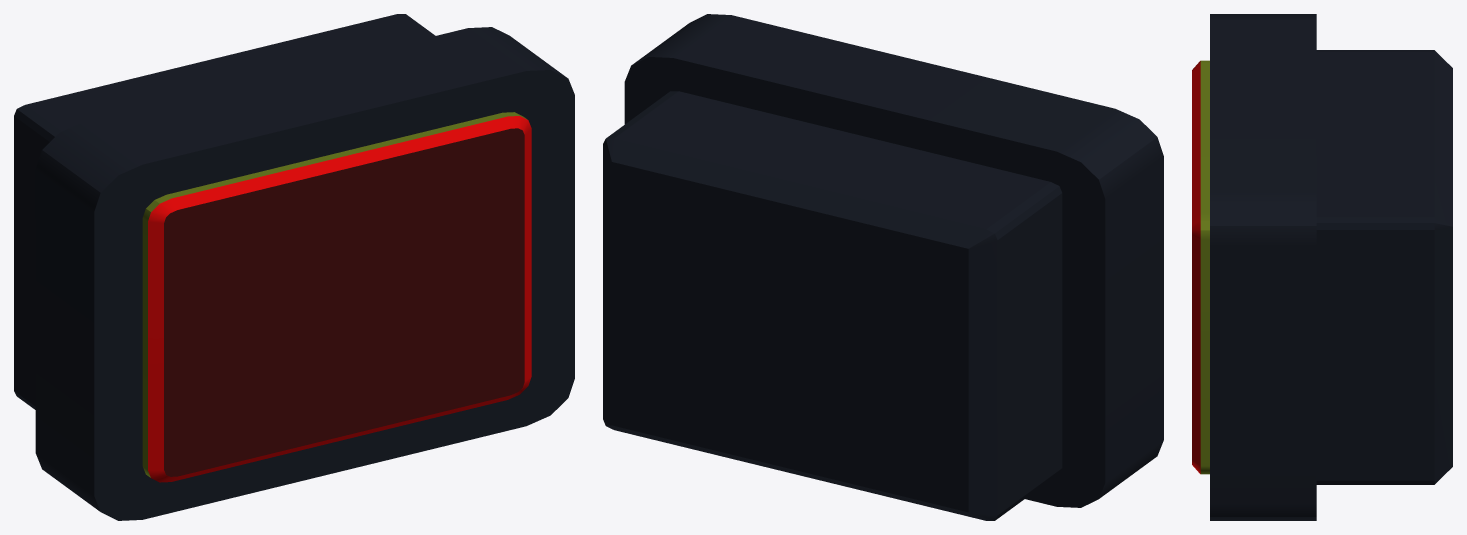
File: staticMesh_prop_TV.fbx
3 views of the same model, side by side, from view 1: azimuth 30°, elevation 25°; view 2: azimuth 150°, elevation 25°; view 3: azimuth 270°, elevation 25° (orthographic). The views are drawn at different scales.
Visible parts, largest first — view 1: pCube15; view 2: pCube15; view 3: pCube15.
Boxes of the visible parts, x1,y1,x2,y2 form: pCube15: (14,14,574,520); pCube15: (603,14,1163,520); pCube15: (1192,14,1452,520).
Bounding box in the file's own units: 74.28 × 52.45 × 38.31.
